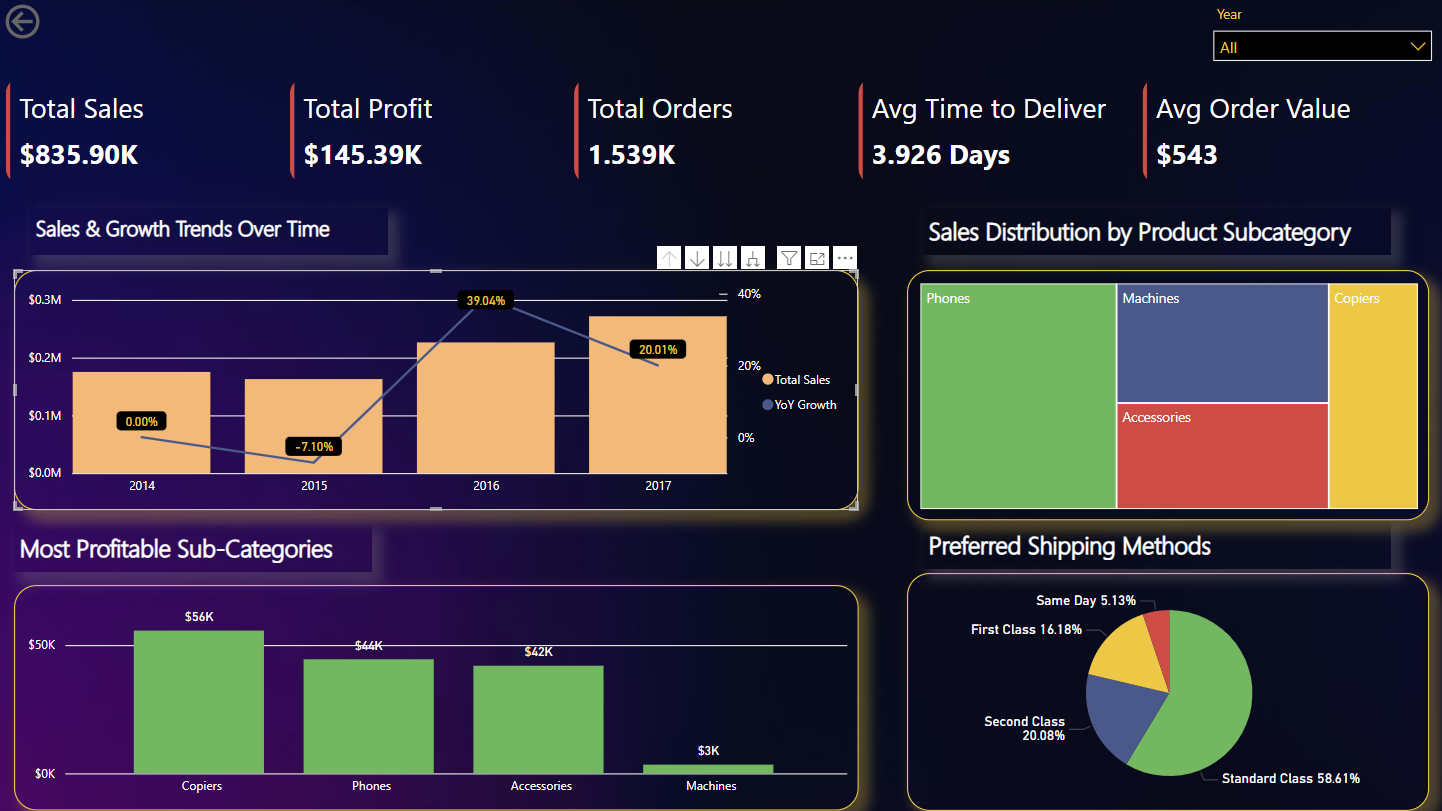

This screenshot's page, from the dashboard's own definition file:
{"tool":"powerbi","page":{"name":"Category Drill through","canvas":[1280,720],"ordinal":1},"visuals":[{"type":"actionButton","box":[0,0,100,40],"z":0},{"type":"cardVisual","fields":{"Data":["dashboard fact_sales.Total Sales","dashboard fact_sales.Total Profit","dashboard fact_sales.Total Orders","dashboard fact_sales.Avg Time to Deliver","dashboard fact_sales.AoV"]},"box":[0,62.9,1266.7,108.6],"z":3000},{"type":"lineStackedColumnComboChart","fields":{"Y":["dashboard fact_sales.Total Sales"],"Y2":["dashboard fact_sales.YoY Growth"],"Category":["Data table.Date Hierarchy.Year","Data table.Date Hierarchy.Qauter Name","Data table.Date Hierarchy.Month","Data table.Date Hierarchy.Date"]},"box":[12.4,240,748.6,213.3],"z":4000},{"type":"columnChart","fields":{"Category":["dashboard dim_product.Sub_Category"],"Y":["dashboard fact_sales.Total Profit"]},"box":[12.4,520,748.6,200],"z":5000},{"type":"pieChart","fields":{"Y":["dashboard fact_sales.Total Orders"],"Category":["dashboard dim_ship_mode.Ship_Mode"],"Series":["dashboard dim_ship_mode.Ship_Mode"]},"box":[803.8,508.6,462.9,211.4],"z":6000},{"type":"slicer","fields":{"Values":["Data table.Date Hierarchy.Year"]},"box":[1065.7,0,214.3,62.9],"z":7000},{"type":"treemap","fields":{"Group":["dashboard dim_product.Sub_Category"],"Values":["dashboard fact_sales.Total Sales"]},"box":[803.8,240,462.9,221.9],"z":8000},{"type":"textbox","box":[818.1,185.7,415.2,41.9],"z":9000},{"type":"textbox","box":[12.4,466.7,317.1,41.9],"z":10000},{"type":"textbox","box":[818.1,463.8,415.2,41.9],"z":11000},{"type":"textbox","box":[26.7,185.7,317.1,41.9],"z":12000}]}

Visuals, with their boxes in screenshot pixels (x1, y1, x2, y2), scaled from the page's 1280x720 canvas onto the 1442x811 screenshot:
actionButton: 0, 0, 113, 45
cardVisual - dashboard fact_sales.Total Sales x dashboard fact_sales.Total Profit: 0, 71, 1427, 193
lineStackedColumnComboChart - dashboard fact_sales.Total Sales x dashboard fact_sales.YoY Growth: 14, 270, 857, 511
columnChart - dashboard dim_product.Sub_Category x dashboard fact_sales.Total Profit: 14, 586, 857, 810
pieChart - dashboard fact_sales.Total Orders x dashboard dim_ship_mode.Ship_Mode: 906, 573, 1427, 810
slicer - Data table.Date Hierarchy.Year: 1201, 0, 1441, 71
treemap - dashboard dim_product.Sub_Category x dashboard fact_sales.Total Sales: 906, 270, 1427, 520
textbox: 922, 209, 1389, 256
textbox: 14, 526, 371, 573
textbox: 922, 522, 1389, 570
textbox: 30, 209, 387, 256
